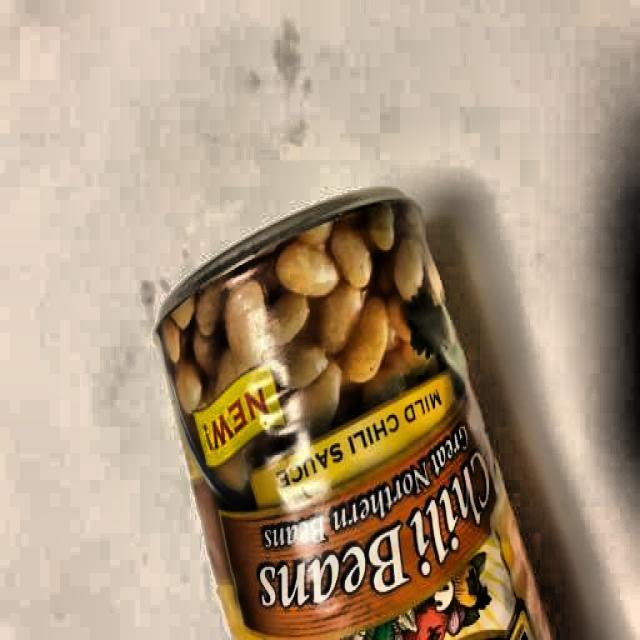metal: (151, 185, 551, 640)
